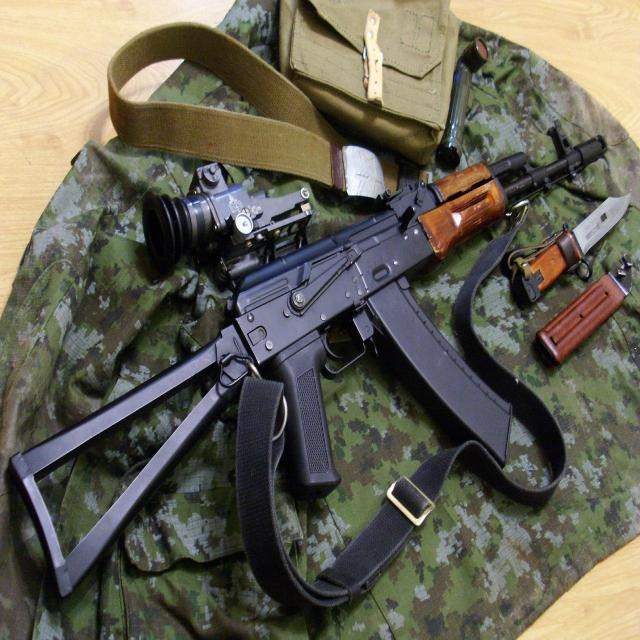firearm: (10, 121, 607, 601)
knife: (518, 193, 632, 304), (537, 273, 627, 364)
